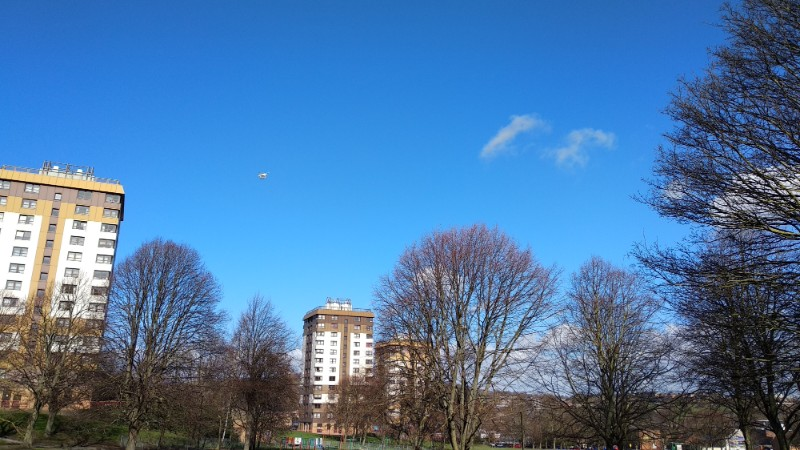drone: (258, 170, 268, 180)
